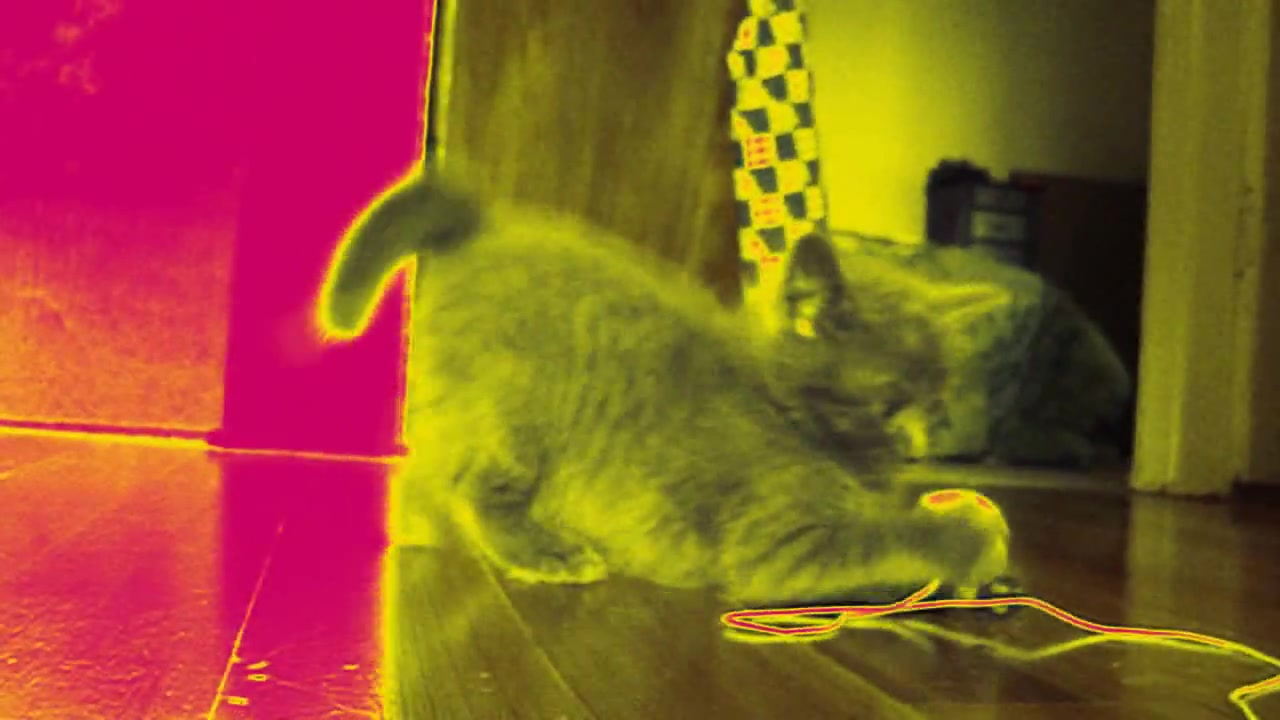cat: (320, 157, 1019, 611)
